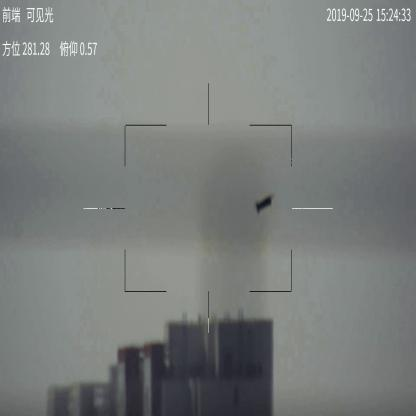uav: (253, 194, 271, 214)
